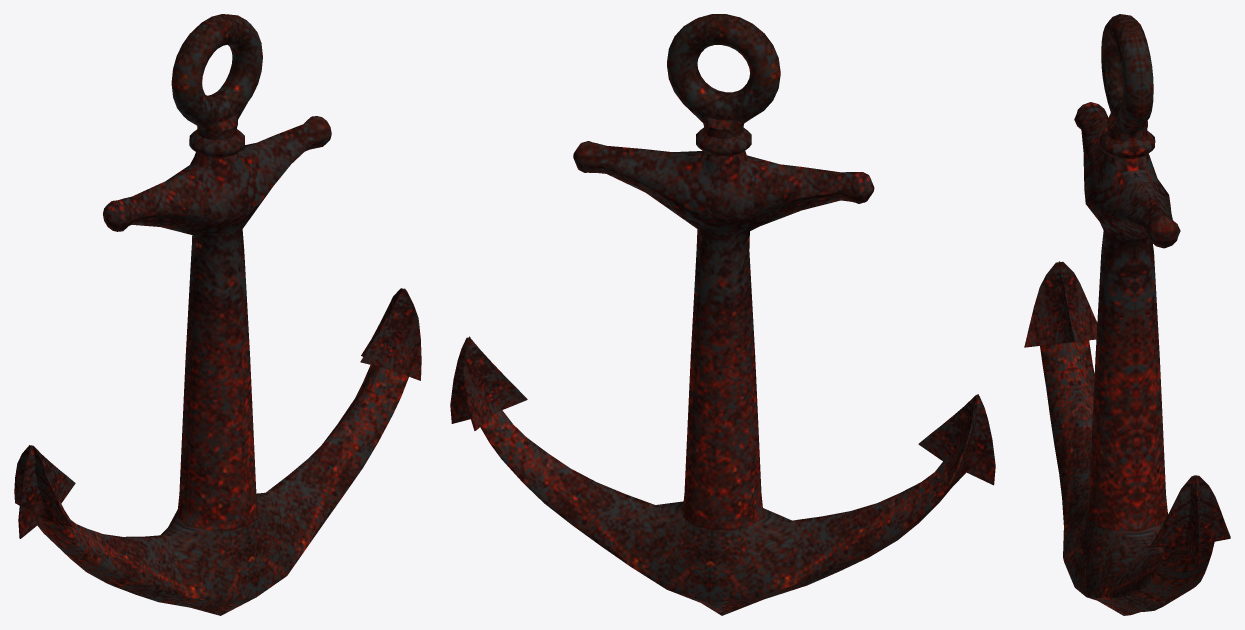
File: Ancora.FBX
3 views of the same model, side by side, from view 1: azimuth 30°, elevation 25°; view 2: azimuth 150°, elevation 25°; view 3: azimuth 270°, elevation 25° (orthographic).
Visible parts, largest first — view 1: Object007; view 2: Object007; view 3: Object007.
Boxes of the visible parts, x1,y1,x2,y2 form: Object007: [14, 14, 421, 615]; Object007: [450, 14, 995, 615]; Object007: [1024, 14, 1230, 615].
Size of the model in its own units: 332 by 403 by 126.
